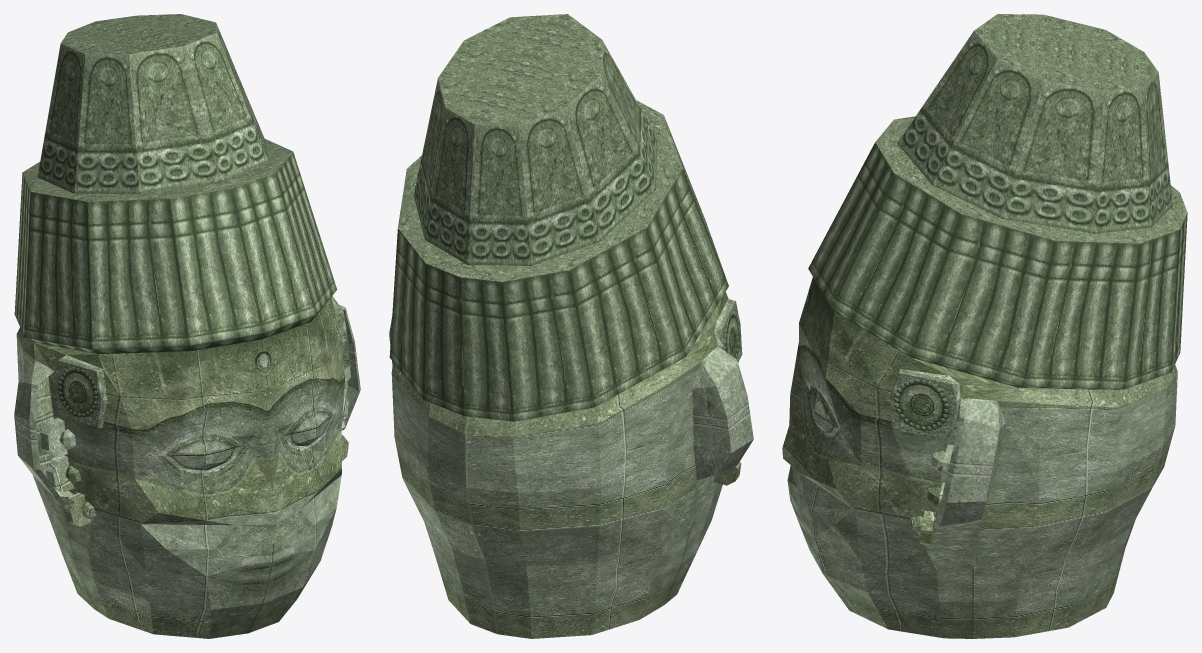
The model's file is thm_nboo_gungan_sacred_head_s01_l2.fbx.
The picture shows the model from 3 angles, left to right: view 1: azimuth 30°, elevation 25°; view 2: azimuth 150°, elevation 25°; view 3: azimuth 270°, elevation 25°; orthographic projection. The views are drawn at different scales.
Parts seen in each view (by area): view 1: mesh_node; view 2: mesh_node; view 3: mesh_node.
Boxes of the visible parts, bbox=[...] form: mesh_node: bbox=[14, 14, 360, 638]; mesh_node: bbox=[389, 14, 753, 638]; mesh_node: bbox=[782, 14, 1187, 638].
Bounding box in the file's own units: 5.85 × 9.24 × 6.03.
2 materials, 2 textured.
